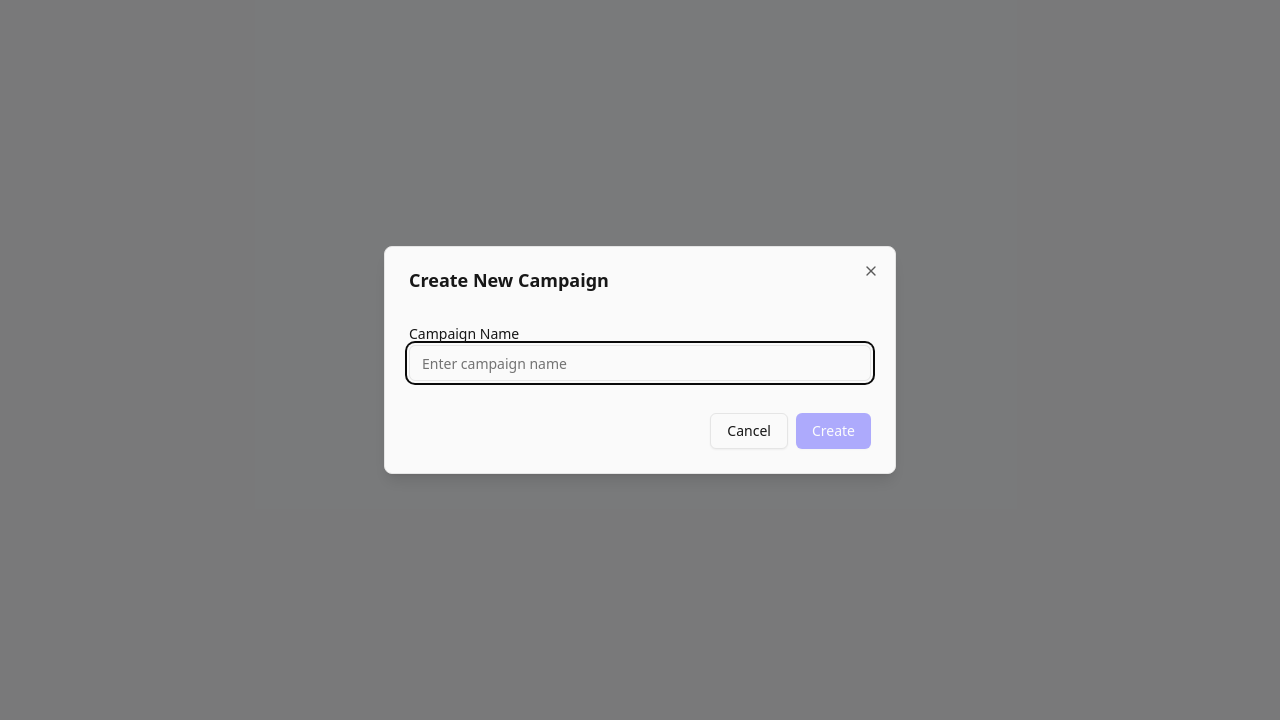
it: CreateCampaignDialog › should show validation error for duplicate campaign name
The width and height of the screenshot is (1280, 720).
Type "Test Campaign" into the field labelled "Campaign Name".
click(640, 363); type("Test Campaign")  # box [409,345,871,381]
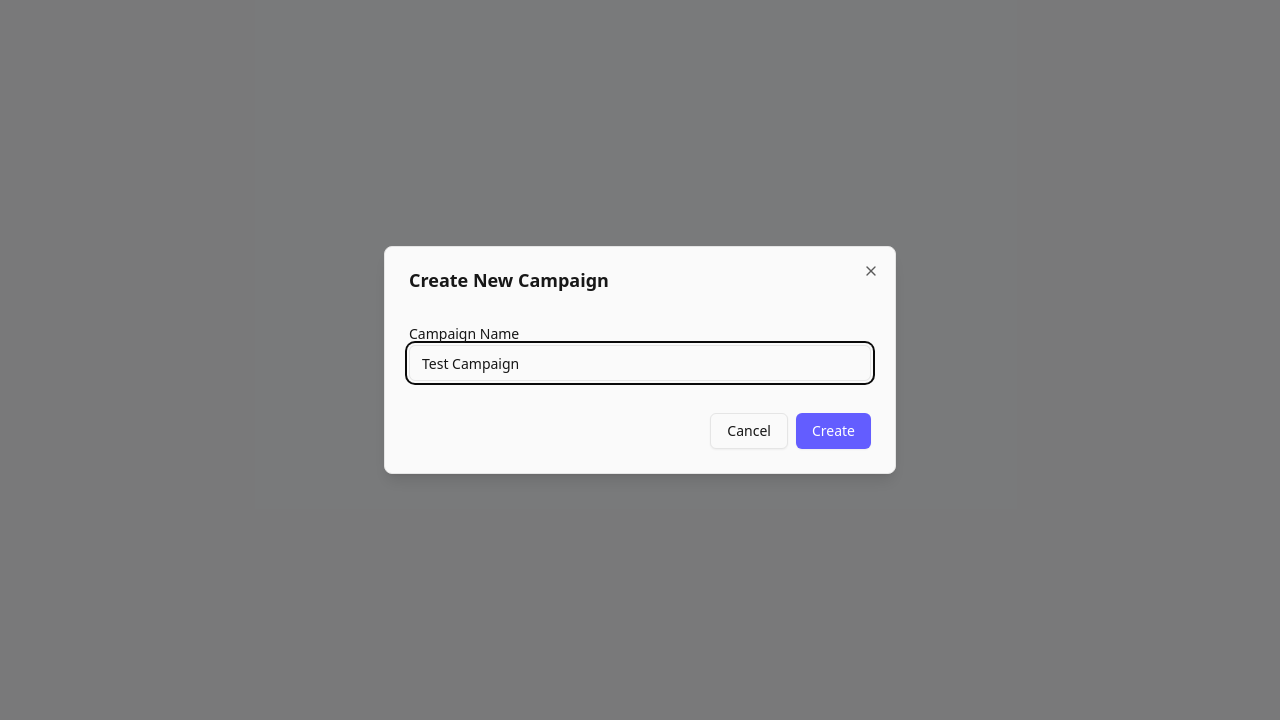
Click the button "Create".
click(833, 431)  # box [796,413,871,449]
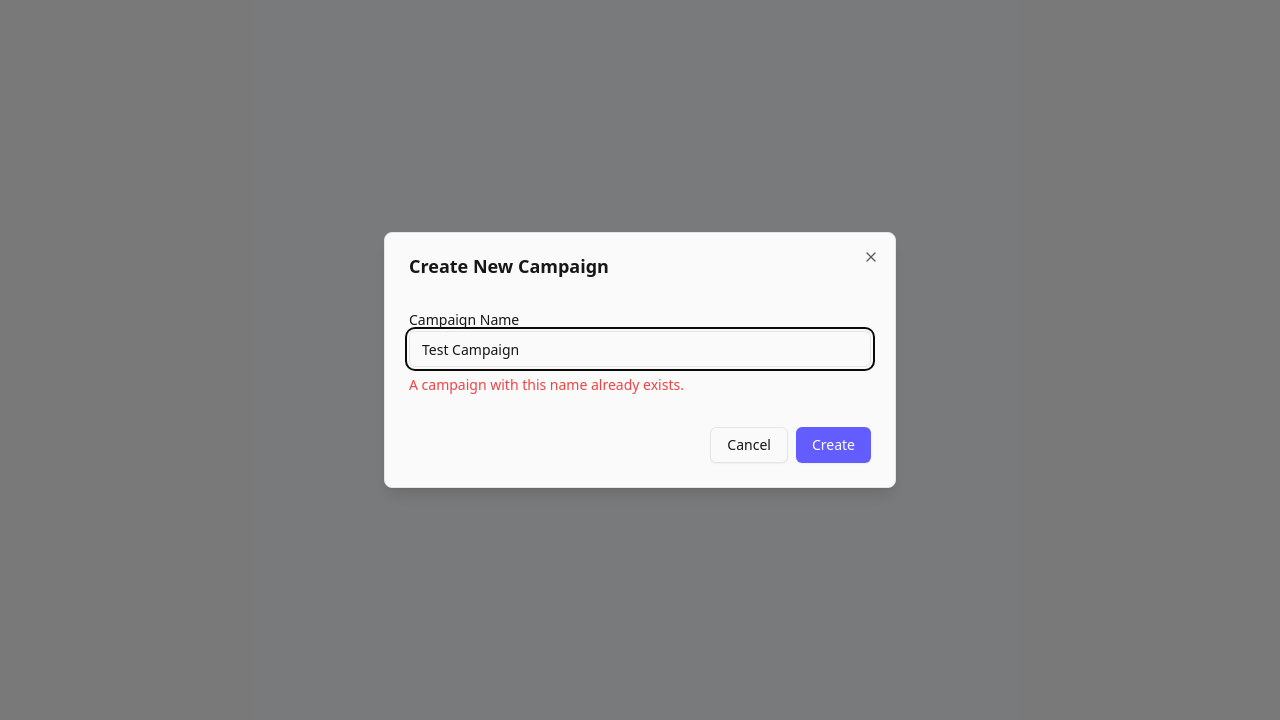
Now the text "A campaign with this name already exists." is shown, box [409,375,684,394]
